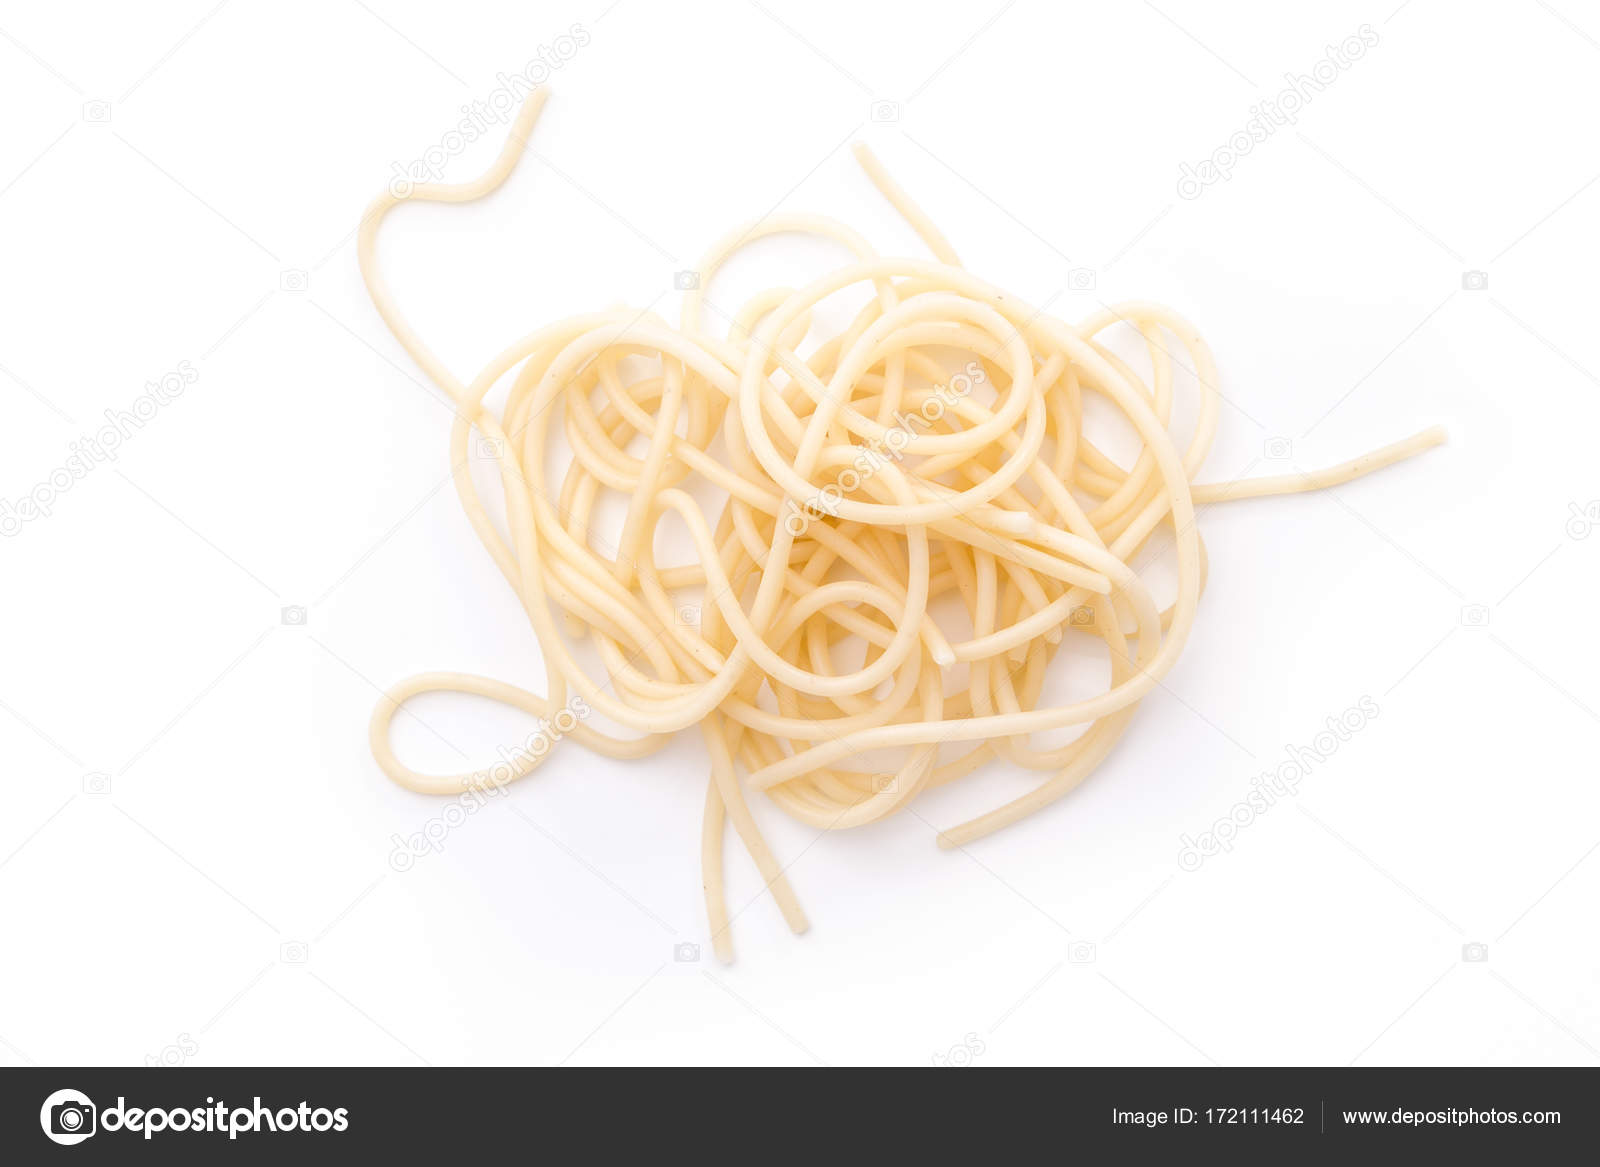plain spaghetti: (499, 327, 1164, 787)
